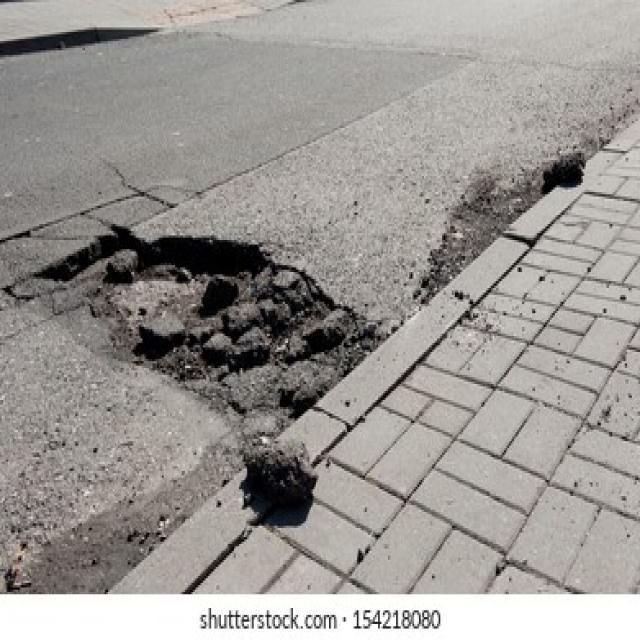Pothole: (42, 224, 362, 423)
